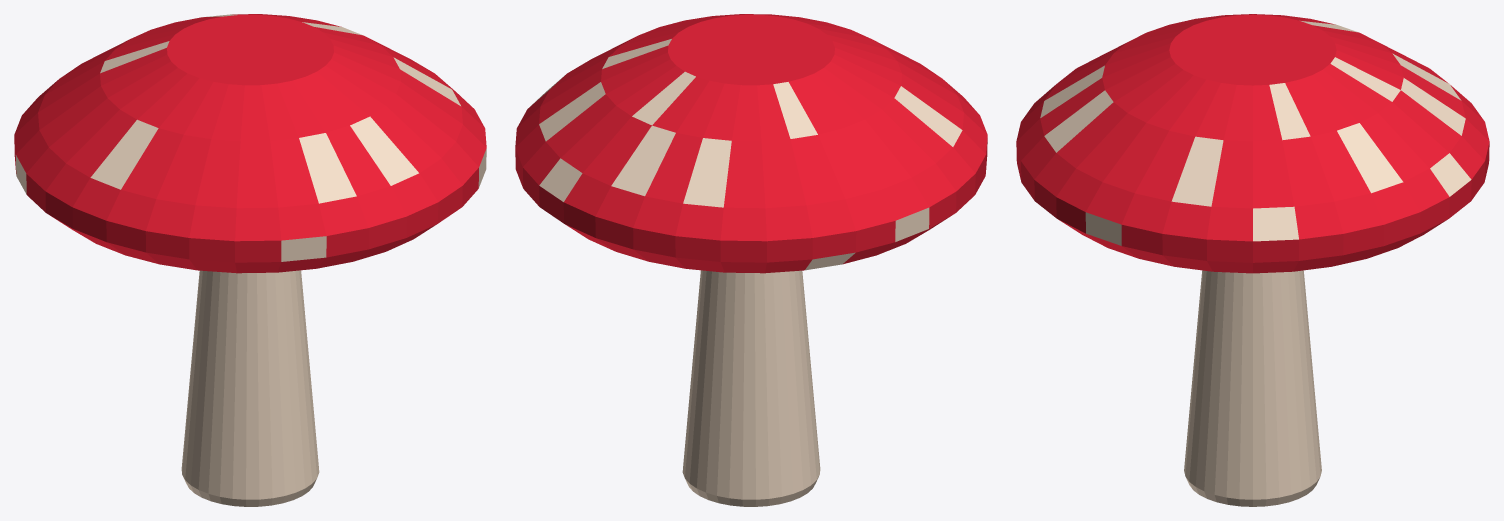
Rendered from hongo.glb.
3 views of the same model, side by side, from view 1: azimuth 30°, elevation 25°; view 2: azimuth 150°, elevation 25°; view 3: azimuth 270°, elevation 25° (orthographic).
Parts seen in each view (by area): view 1: Cylinder; view 2: Cylinder; view 3: Cylinder.
Part boxes in pixels (x1,y1,x2,y2): Cylinder: (14, 14, 486, 506); Cylinder: (515, 14, 987, 506); Cylinder: (1016, 14, 1489, 506).
Bounding box in the file's own units: 6.78 × 6.79 × 6.78.
